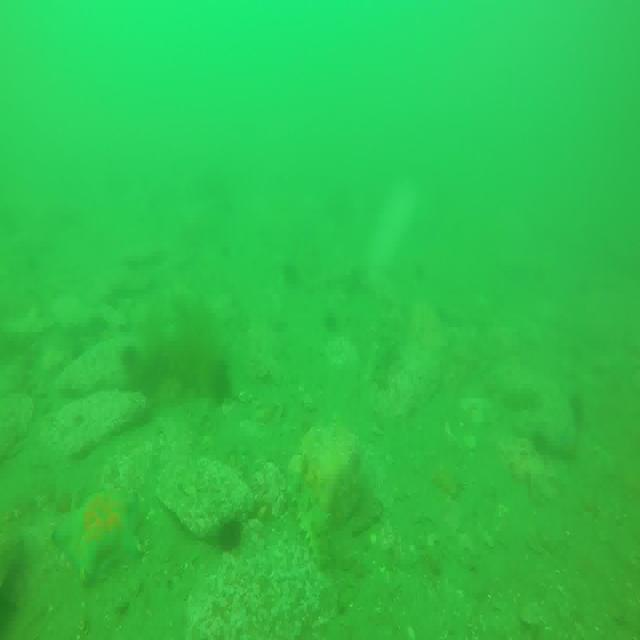echinus: (218, 513, 243, 549)
holothurian: (290, 484, 332, 574)
starfish: (51, 490, 143, 590)
